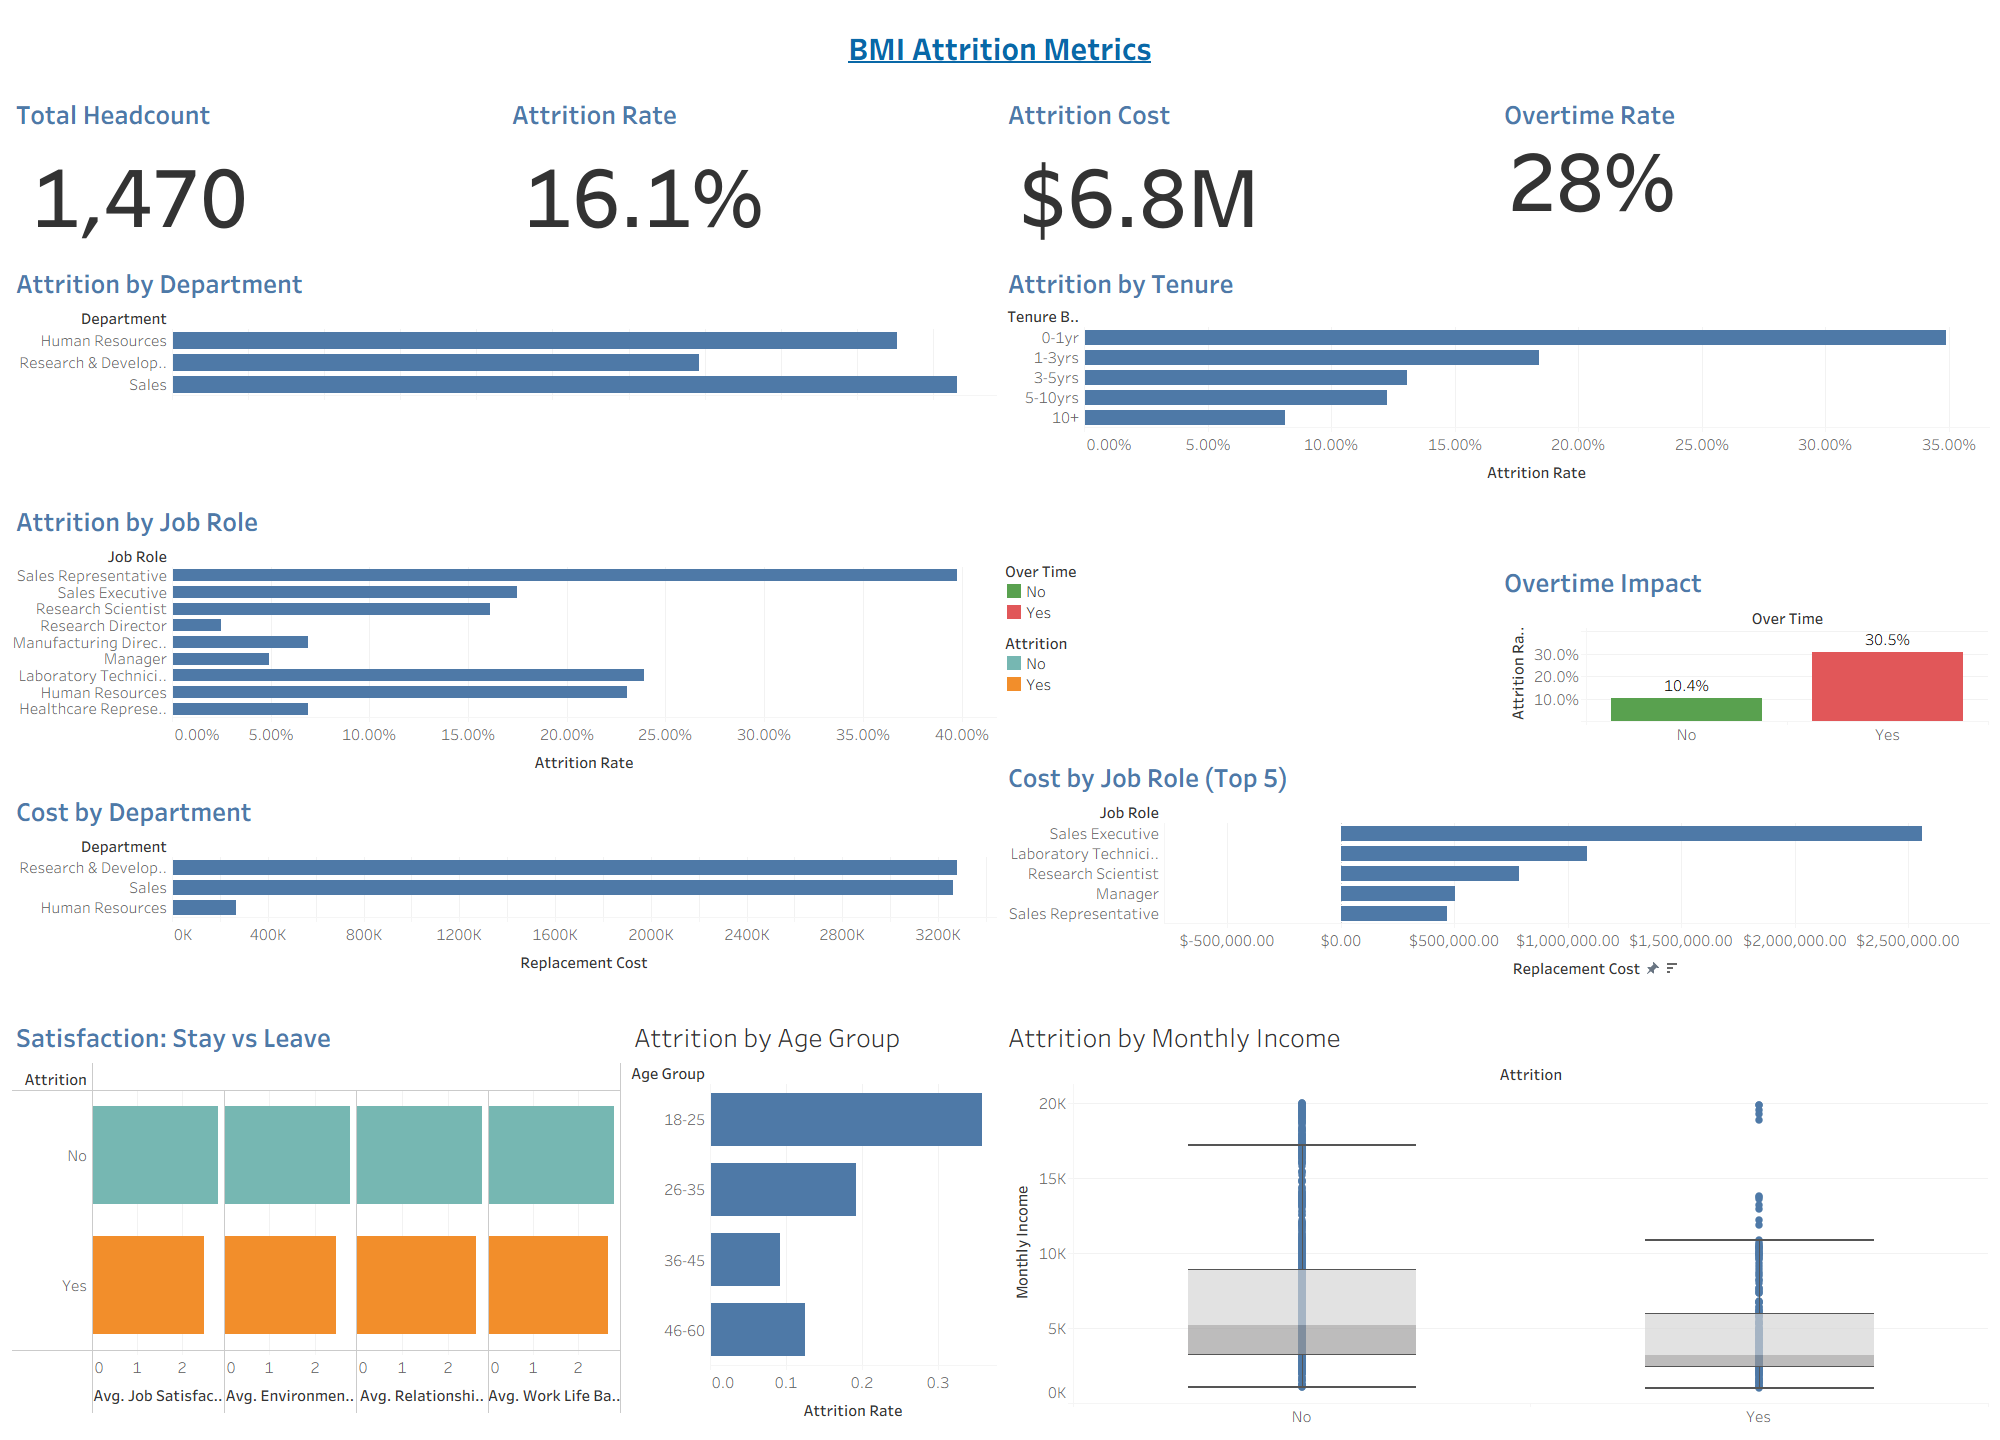

The page's visual inventory and layout, read from the dashboard file:
{"tool":"tableau","page":{"name":"Dashboard","canvas":[2000,1440],"ordinal":0},"visuals":[{"type":"title","box":[8,8,1984,79]},{"type":"worksheet","title":"Total Headcount","mark":"Automatic","box":[8,87,496,169]},{"type":"worksheet","title":"Attrition Rate","mark":"Automatic","box":[504,87,496,169]},{"type":"worksheet","title":"Attrition Cost","mark":"Automatic","box":[1000,87,496,169]},{"type":"worksheet","title":"Overtime Rate","mark":"Automatic","box":[1496,87,496,169]},{"type":"worksheet","title":"Attrition By Department","mark":"Automatic","rows":["Department"],"cols":["Calculation_0748552333504512"],"box":[8,256.3,991.5,238]},{"type":"worksheet","title":"Attrition by Tenure","mark":"Automatic","rows":["TenureBand"],"cols":["Calculation_0748552333504512"],"box":[999.5,256.3,992.5,298.7]},{"type":"worksheet","title":"Attrition by Job Role","mark":"Automatic","rows":["JobRole"],"cols":["Calculation_0748552333504512"],"box":[8,494.3,991.5,290]},{"type":"legend","title":"Overtime Impact","param":"[federated.0o8ziqj1sndt0s1gsvais1byv882].[none:OverTime:nk]","box":[999.5,555,496.2,72]},{"type":"worksheet","title":"Overtime Impact","mark":"Automatic","rows":["Calculation_0748552333504512"],"cols":["OverTime"],"box":[1495.7,555,496.3,194.6]},{"type":"legend","title":"Satisfaction Rate","param":"[federated.0o8ziqj1sndt0s1gsvais1byv882].[none:Attrition:nk]","box":[999.5,627,496.2,72]},{"type":"worksheet","title":"Costs by Job Roles","mark":"Automatic","rows":["JobRole"],"cols":["ReplacementCost"],"box":[999.5,749.6,992.5,260.4]},{"type":"worksheet","title":"Cost by Department","mark":"Automatic","rows":["Department"],"cols":["ReplacementCost"],"box":[8,784.2,991.5,225.8]},{"type":"worksheet","title":"Satisfaction Rate","mark":"Automatic","rows":["Attrition"],"cols":["JobSatisfaction","EnvironmentSatisfaction","RelationshipSatisfaction","WorkLifeBalance"],"box":[8,1010,618,422]},{"type":"worksheet","title":"Attrition by Age Group","mark":"Automatic","rows":["AgeGroup"],"cols":["Calculation_0748552333504512"],"box":[626,1010,374,422]},{"type":"worksheet","title":"Attrition by Monthly Income","mark":"Circle","rows":["MonthlyIncome"],"cols":["Attrition"],"box":[1000,1010,992,422]}]}

Visuals, with their boxes in screenshot pixels (x1, y1, x2, y2), scaled from the page's 2000x1440 canvas onto the 2000x1440 screenshot:
title: (8, 8, 1992, 87)
"Total Headcount" worksheet: (8, 87, 504, 256)
"Attrition Rate" worksheet: (504, 87, 1000, 256)
"Attrition Cost" worksheet: (1000, 87, 1496, 256)
"Overtime Rate" worksheet: (1496, 87, 1992, 256)
"Attrition By Department" worksheet: (8, 256, 1000, 494)
"Attrition by Tenure" worksheet: (1000, 256, 1992, 555)
"Attrition by Job Role" worksheet: (8, 494, 1000, 784)
"Overtime Impact" legend: (1000, 555, 1496, 627)
"Overtime Impact" worksheet: (1496, 555, 1992, 750)
"Satisfaction Rate" legend: (1000, 627, 1496, 699)
"Costs by Job Roles" worksheet: (1000, 750, 1992, 1010)
"Cost by Department" worksheet: (8, 784, 1000, 1010)
"Satisfaction Rate" worksheet: (8, 1010, 626, 1432)
"Attrition by Age Group" worksheet: (626, 1010, 1000, 1432)
"Attrition by Monthly Income" worksheet (Circle marks): (1000, 1010, 1992, 1432)
